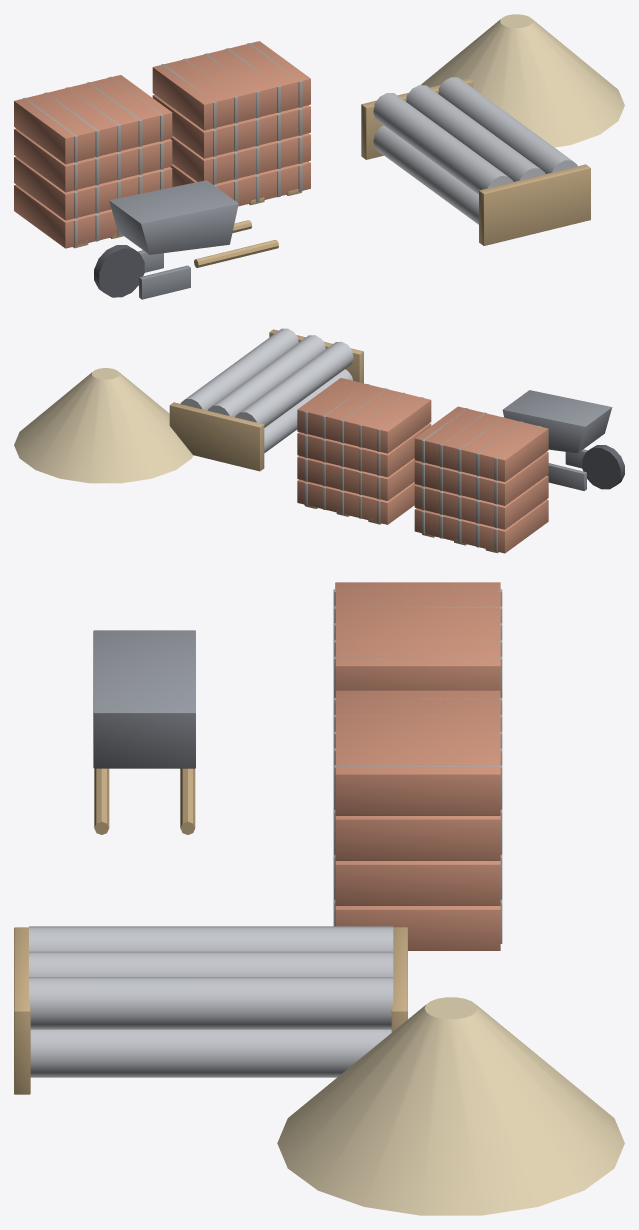
Rendered from th46_materiallager.glb.
3 views of the same model, one above another, from view 1: azimuth 30°, elevation 25°; view 2: azimuth 150°, elevation 25°; view 3: azimuth 270°, elevation 25° (orthographic). The views are drawn at different scales.
Parts seen in each view (by area): view 1: Cone, Cube.045, Cube.018, Wanne, Cube.054, Cylinder.003, Cube.012, Cylinder.004, Cylinder.005, Cube.006, Cube.039, Cube.033 (+7 smaller); view 2: Cone, Cube.045, Cube.018, Cube.055, Wanne, Cylinder.003, Cube.006, Cube.012, Cube, Cylinder.005, Cylinder.004, Cube.039 (+6 smaller); view 3: Cone, Cube.045, Cylinder.005, Cube.018, Cylinder.002, Wanne, Cylinder.003, Cylinder.004, Cube.033, Cube.039, Cube.027, Cube.054 (+3 smaller).
Boxes of the visible parts, x1,y1,x2,y2 form: Cone: (421, 14, 624, 147); Cube.045: (152, 41, 310, 130); Cube.018: (14, 75, 172, 164); Wanne: (109, 180, 238, 254); Cube.054: (479, 164, 590, 245); Cylinder.003: (373, 93, 513, 194); Cube.012: (14, 128, 172, 192); Cylinder.004: (406, 85, 545, 181); Cylinder.005: (438, 77, 577, 173); Cube.006: (14, 156, 172, 220); Cube.039: (152, 94, 310, 158); Cube.033: (170, 133, 310, 184); Cone: (14, 368, 192, 483); Cube.045: (297, 378, 431, 453); Cube.018: (414, 406, 548, 481); Cube.055: (169, 402, 264, 471); Wanne: (502, 390, 612, 453); Cylinder.003: (235, 341, 353, 427); Cube.006: (414, 475, 548, 529); Cube.012: (414, 452, 548, 505); Cube: (414, 499, 548, 553); Cylinder.005: (180, 328, 298, 410); Cylinder.004: (208, 335, 325, 416); Cube.039: (297, 423, 431, 477); Cone: (277, 997, 624, 1215); Cube.045: (335, 690, 500, 815); Cylinder.005: (29, 977, 393, 1029); Cube.018: (335, 582, 500, 690); Cylinder.002: (30, 1029, 391, 1077); Wanne: (93, 630, 195, 768); Cylinder.003: (29, 926, 393, 951); Cylinder.004: (29, 951, 393, 976); Cube.033: (335, 861, 500, 905); Cube.039: (335, 816, 500, 860); Cube.027: (335, 906, 500, 950); Cube.054: (14, 927, 30, 1094).
Bounding box in the file's own units: 6.8 × 1.2 × 3.69.
